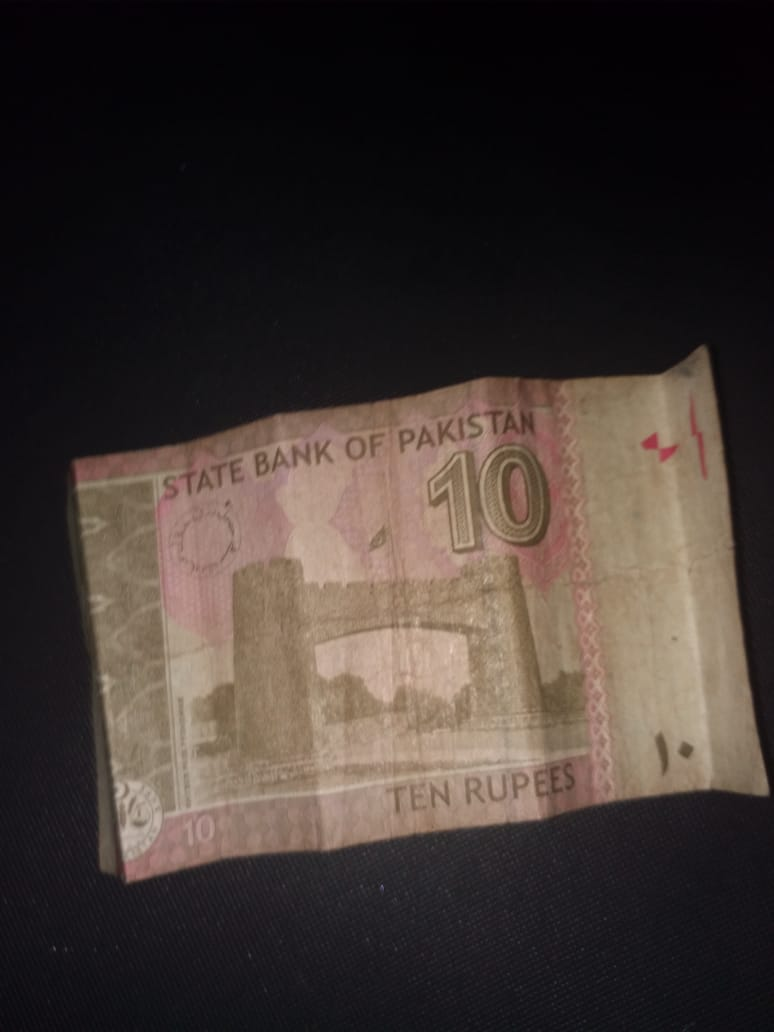10 rupee: (49, 358, 765, 870)
